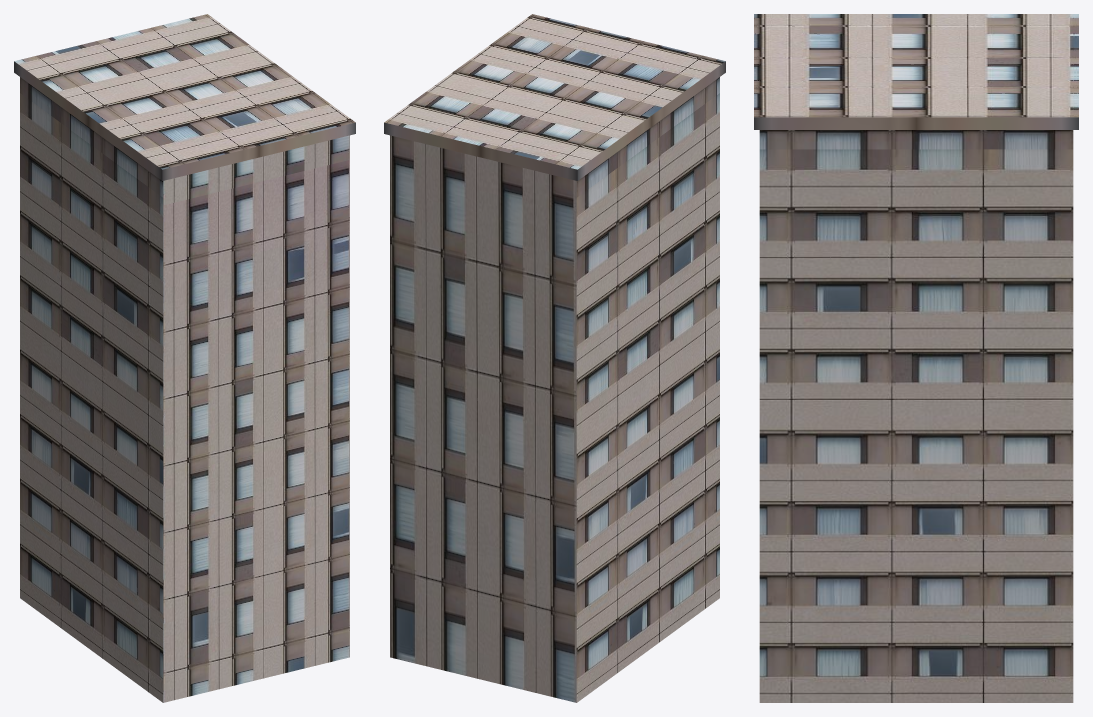
The model's file is buildin1.fbx.
The picture shows the model from 3 angles, left to right: view 1: azimuth 30°, elevation 25°; view 2: azimuth 150°, elevation 25°; view 3: azimuth 270°, elevation 25°; orthographic projection. The views are drawn at different scales.
Parts seen in each view (by area): view 1: BUILDING3; view 2: BUILDING3; view 3: BUILDING3.
Boxes of the visible parts, <box> form: BUILDING3: <box>14,14,355,702</box>; BUILDING3: <box>384,14,725,702</box>; BUILDING3: <box>754,14,1078,702</box>.
Size of the model in its own units: 10.69 by 28.29 by 14.18.
